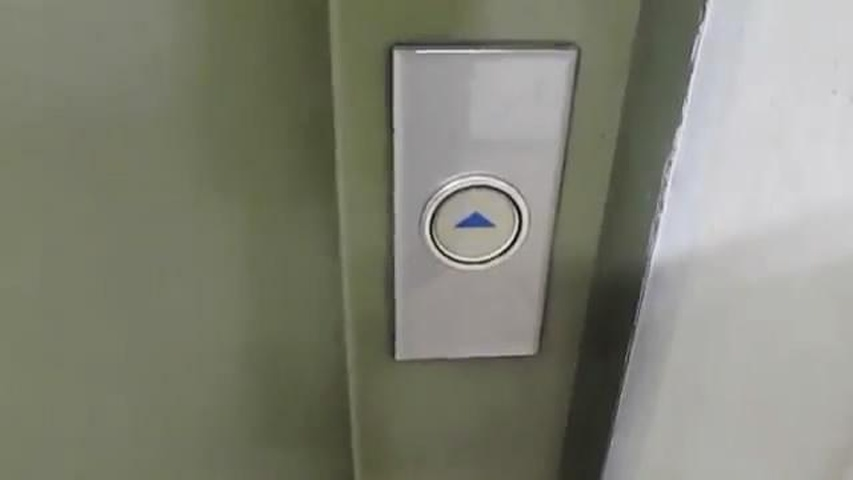up: (416, 171, 533, 271)
